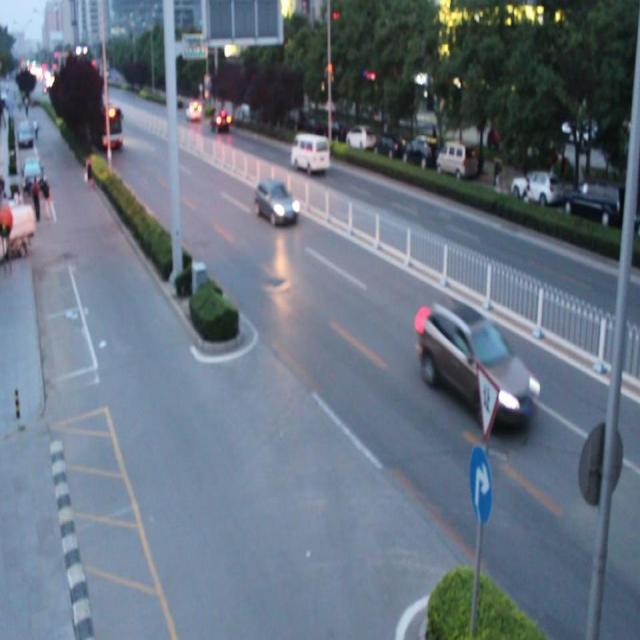car: (414, 297, 536, 431), (254, 175, 297, 228), (210, 105, 229, 130)
truck: (288, 130, 330, 173)
